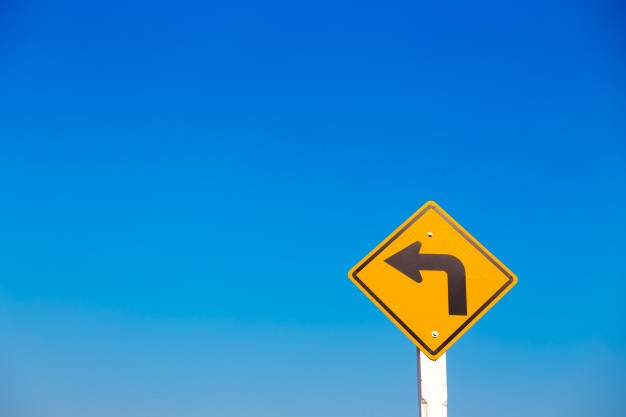left: (345, 197, 529, 364)
